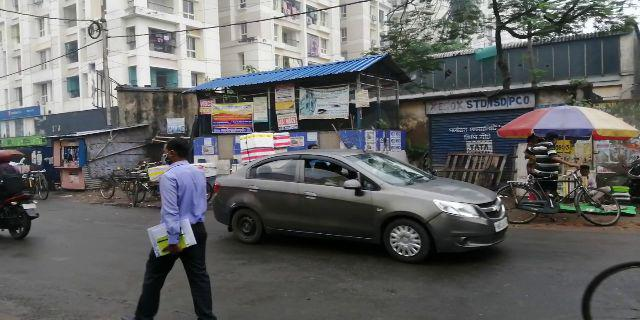Car: (206, 142, 511, 269)
